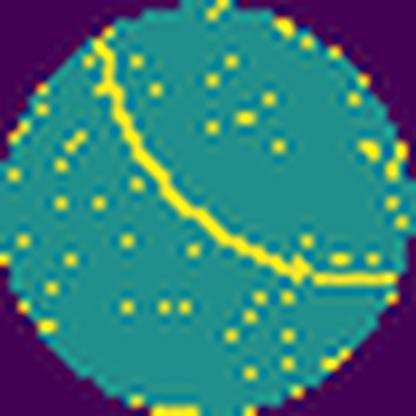Scratch: (87, 25, 400, 294)
